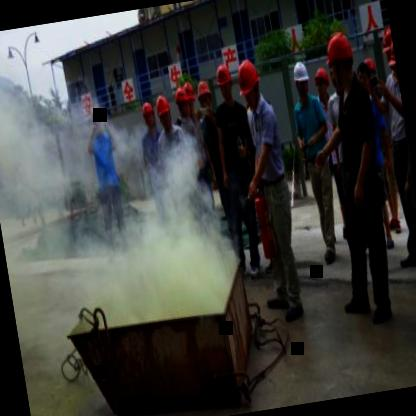helmet: (320, 25, 360, 95), (233, 54, 264, 108), (212, 59, 236, 107), (379, 22, 398, 82), (290, 60, 314, 102), (154, 92, 176, 136), (193, 75, 215, 116), (312, 65, 332, 100), (172, 84, 191, 119), (140, 100, 158, 132), (181, 79, 198, 112)
